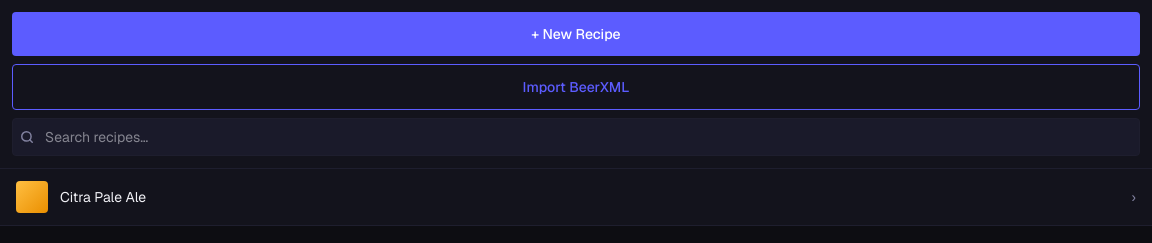
Scenario: RecipesHome (mobile) - search › hides a non-matching recipe
Type "Zzz" into the search field with placeholder "Search recipes…" at (576, 137), box [12,118,1140,156]
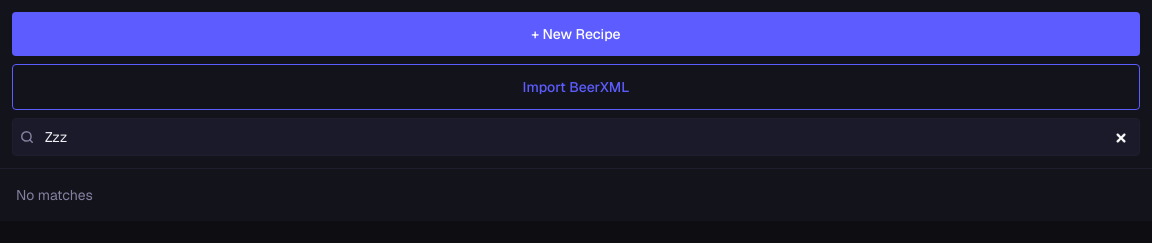
Result: the link "Citra Pale Ale" is gone
